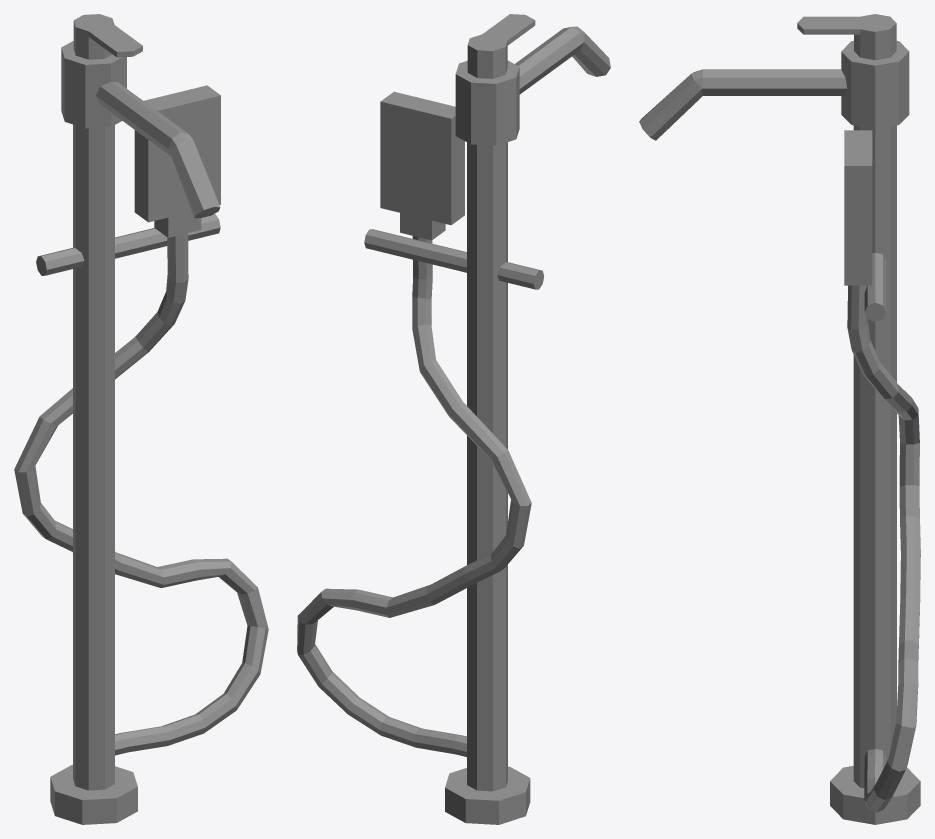
Rendered from Faucet.fbx.
3 views of the same model, side by side, from view 1: azimuth 30°, elevation 25°; view 2: azimuth 150°, elevation 25°; view 3: azimuth 270°, elevation 25° (orthographic). The views are drawn at different scales.
Visible parts, largest first — view 1: Faucet; view 2: Faucet; view 3: Faucet.
Boxes of the visible parts, bbox=[...] form: Faucet: bbox=[14, 14, 268, 824]; Faucet: bbox=[297, 14, 610, 824]; Faucet: bbox=[639, 14, 920, 824].
Size of the model in its own units: 52.38 by 52.44 by 161.
